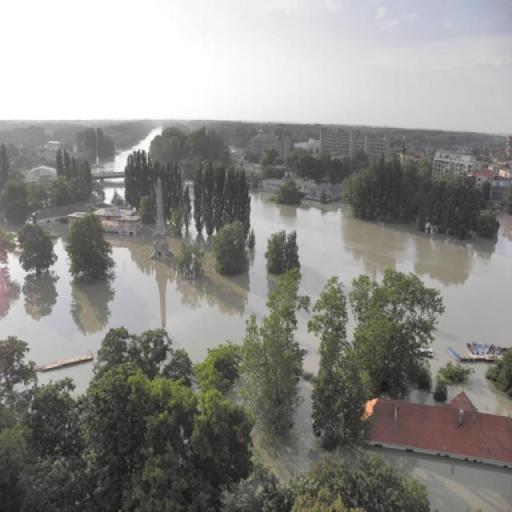flood: (0, 191, 512, 369), (370, 449, 512, 512), (254, 382, 330, 484), (446, 362, 512, 416), (406, 349, 456, 405), (103, 126, 161, 171), (37, 361, 92, 394), (294, 309, 320, 374), (323, 446, 380, 460), (103, 178, 125, 204), (347, 301, 356, 340), (226, 388, 243, 406), (168, 236, 183, 256)
house: (370, 389, 510, 475), (318, 126, 385, 159), (294, 178, 347, 204), (432, 148, 476, 176), (100, 206, 143, 234), (252, 133, 288, 154), (261, 176, 282, 194), (474, 169, 493, 188), (491, 180, 505, 202), (67, 211, 84, 225)
